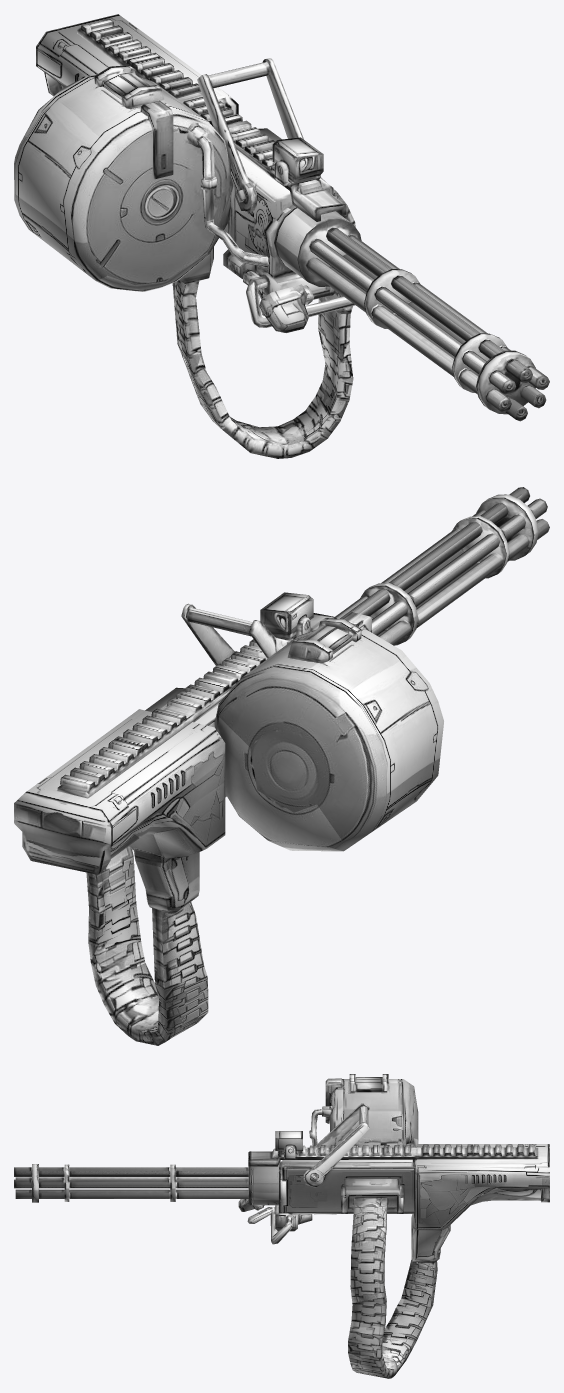
3 renders of one model, top to bottom at view 1: azimuth 30°, elevation 25°; view 2: azimuth 150°, elevation 25°; view 3: azimuth 270°, elevation 25°, orthographic. The views are drawn at different scales.
Parts seen in each view (by area): view 1: gun, spin; view 2: gun, spin; view 3: gun, spin.
Boxes of the visible parts, bbox=[...] form: gun: bbox=[14, 14, 355, 458]; spin: bbox=[274, 204, 549, 421]; gun: bbox=[14, 592, 443, 1045]; spin: bbox=[335, 487, 549, 645]; gun: bbox=[238, 1074, 549, 1378]; spin: bbox=[14, 1161, 282, 1205].
Size of the model in its own units: 1.05 by 1.35 by 2.6.
Materials: 4 (4 with a texture image).
